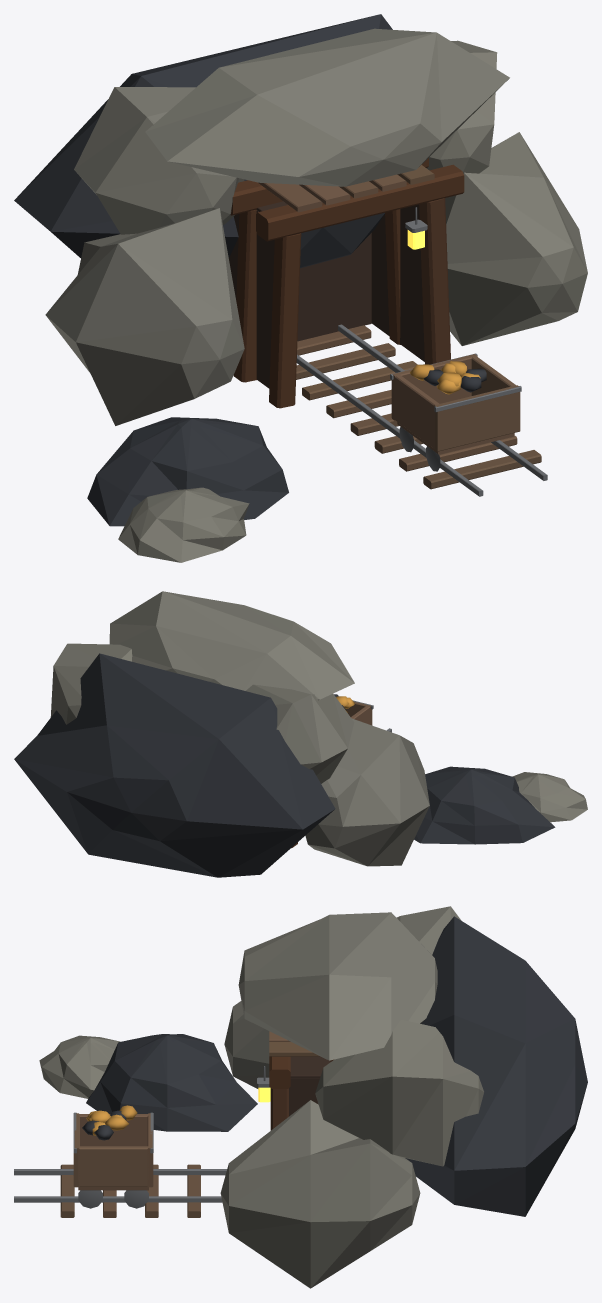
File: prop_mine_adit_a.glb
The picture shows the model from 3 angles, top to bottom: view 1: azimuth 30°, elevation 25°; view 2: azimuth 150°, elevation 25°; view 3: azimuth 270°, elevation 25°; orthographic projection. The views are drawn at different scales.
Visible parts, largest first — view 1: prop_mine_adit_a_mesh; view 2: prop_mine_adit_a_mesh; view 3: prop_mine_adit_a_mesh.
Part boxes in pixels (left/top/right/bottom): prop_mine_adit_a_mesh: left=14, top=14, right=587, bottom=562; prop_mine_adit_a_mesh: left=14, top=591, right=587, bottom=877; prop_mine_adit_a_mesh: left=14, top=906, right=587, bottom=1288.
Bounding box in the file's own units: 7.57 × 3.86 × 7.49.
